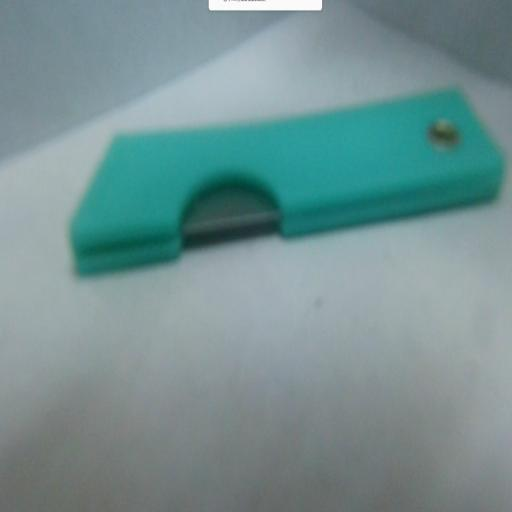rubbish: (64, 76, 508, 283)
